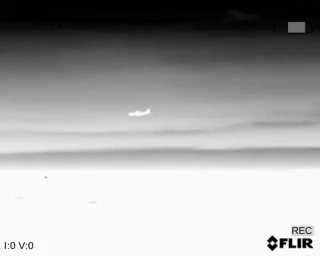AIRPLANE: (127, 107, 151, 118)
